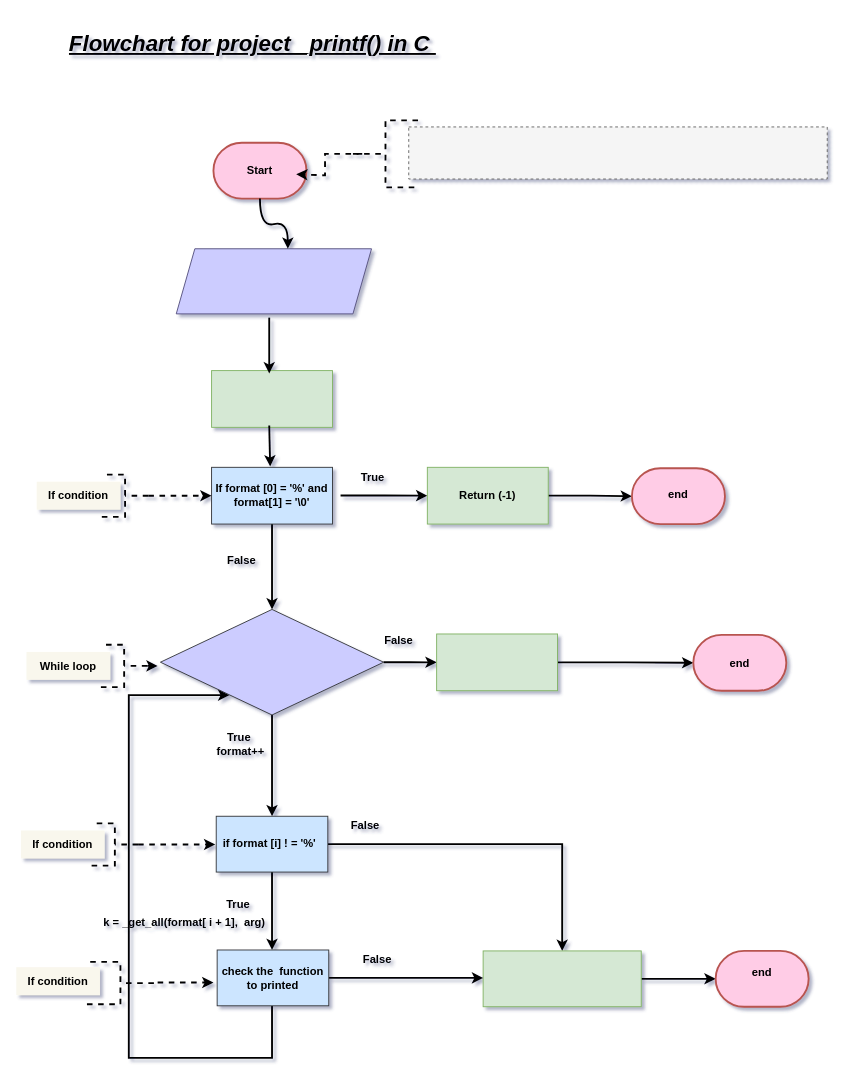
The diagram is 849 pixels wide and 1087 high, and some of its shapes have lost their labels. Each missing label, with the box of its shape:
initialize: (211, 370, 332, 427)
Input: (175, 248, 372, 314)
int _printf(const char *format, ...);: (408, 126, 827, 179)
Print % format[i]: (482, 950, 641, 1007)
print the string: (436, 633, 558, 691)
While format: (159, 608, 384, 715)
